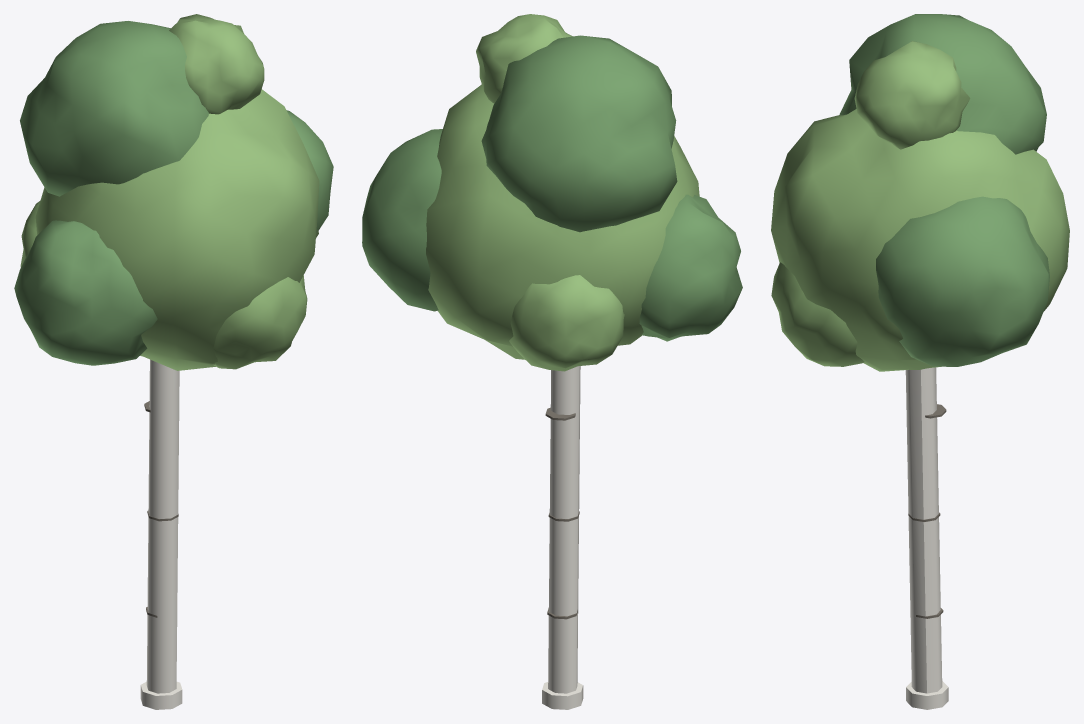
The model's file is birch_tree.glb.
The picture shows the model from 3 angles, left to right: view 1: azimuth 30°, elevation 25°; view 2: azimuth 150°, elevation 25°; view 3: azimuth 270°, elevation 25°; orthographic projection.
Visible parts, largest first — view 1: canopy_main, canopy_top, canopy_left, trunk, canopy_accent, canopy_front, canopy_right, root_flare, canopy_back; view 2: canopy_top, canopy_main, canopy_left, canopy_right, trunk, canopy_back, canopy_accent, root_flare; view 3: canopy_main, canopy_right, canopy_top, trunk, canopy_accent, canopy_front, root_flare.
Part boxes in pixels (left/top/right/bottom): canopy_main: left=35, top=89, right=319, bottom=370; canopy_top: left=20, top=21, right=208, bottom=196; canopy_left: left=14, top=220, right=157, bottom=365; trunk: left=146, top=359, right=179, bottom=693; canopy_accent: left=169, top=14, right=264, bottom=114; canopy_front: left=213, top=275, right=307, bottom=369; canopy_right: left=286, top=110, right=333, bottom=230; root_flare: left=140, top=681, right=182, bottom=709; canopy_back: left=20, top=200, right=40, bottom=267; canopy_top: left=481, top=35, right=677, bottom=232; canopy_main: left=426, top=84, right=699, bottom=359; canopy_left: left=639, top=194, right=742, bottom=341; canopy_right: left=362, top=129, right=442, bottom=311; trunk: left=548, top=366, right=580, bottom=693; canopy_back: left=509, top=275, right=624, bottom=371; canopy_accent: left=476, top=14, right=572, bottom=103; root_flare: left=542, top=682, right=583, bottom=709; canopy_main: left=771, top=109, right=1069, bottom=371; canopy_right: left=876, top=196, right=1049, bottom=366; canopy_top: left=839, top=14, right=1046, bottom=154; trunk: left=905, top=367, right=942, bottom=693; canopy_accent: left=854, top=41, right=970, bottom=149; canopy_front: left=771, top=262, right=864, bottom=366; root_flare: left=906, top=681, right=948, bottom=709.
Bounding box in the file's own units: 2.44 × 4.86 × 1.96.
